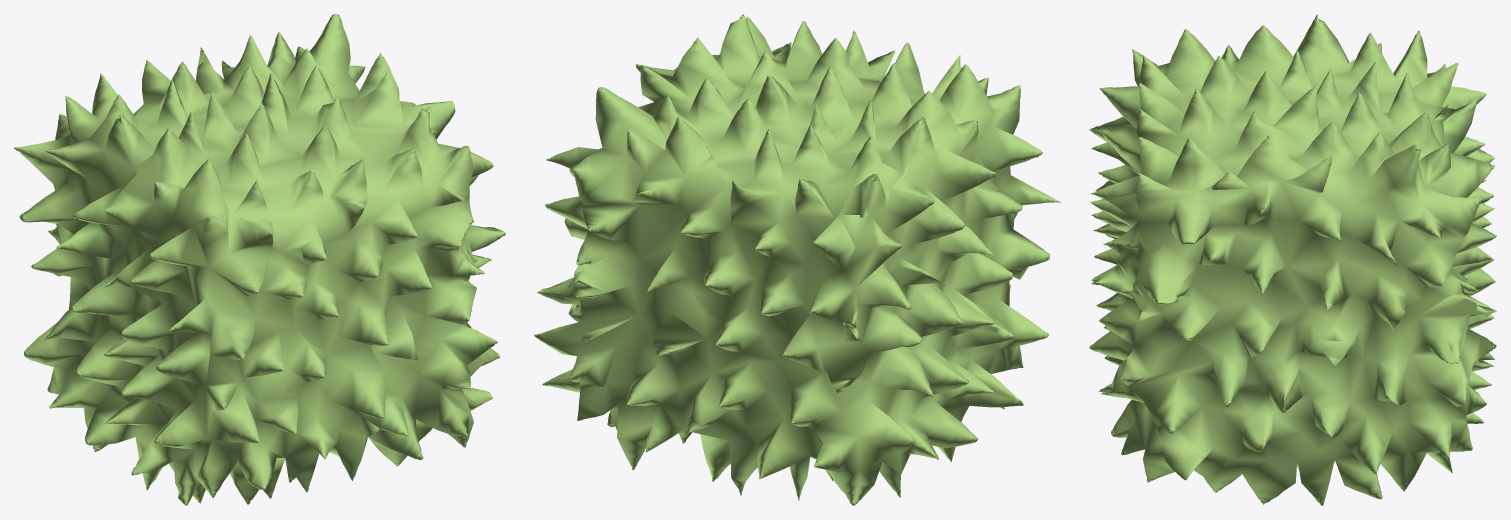
The model's file is hedge.glb.
3 renders of one model, left to right at view 1: azimuth 30°, elevation 25°; view 2: azimuth 150°, elevation 25°; view 3: azimuth 270°, elevation 25°, orthographic. The views are drawn at different scales.
Parts seen in each view (by area): view 1: tripo_node_b35a64a6-269d-4fb5-9323-24ea79182b43; view 2: tripo_node_b35a64a6-269d-4fb5-9323-24ea79182b43; view 3: tripo_node_b35a64a6-269d-4fb5-9323-24ea79182b43.
Part boxes in pixels (x1,y1,x2,y2): tripo_node_b35a64a6-269d-4fb5-9323-24ea79182b43: (14, 14, 505, 505); tripo_node_b35a64a6-269d-4fb5-9323-24ea79182b43: (534, 14, 1060, 505); tripo_node_b35a64a6-269d-4fb5-9323-24ea79182b43: (1089, 14, 1496, 505).
Size of the model in its own units: 0.998 by 0.9902 by 0.998.
1 material, 1 textured.
